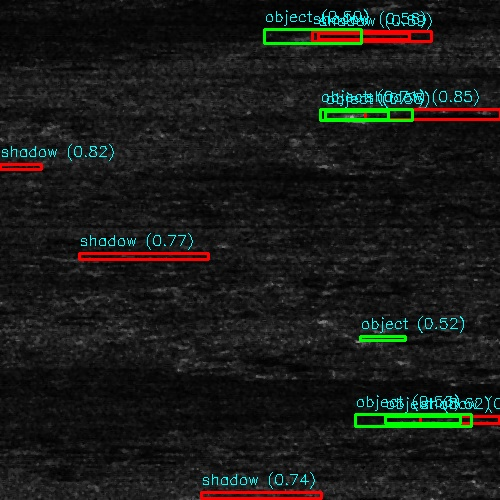rock: (337, 109, 410, 120), (376, 416, 469, 423), (158, 493, 241, 500), (287, 30, 340, 39), (54, 255, 107, 260), (472, 32, 500, 37)
shadow: (374, 109, 500, 120), (200, 493, 342, 500), (314, 30, 405, 39), (423, 416, 500, 423), (81, 255, 183, 260), (0, 165, 42, 170)
